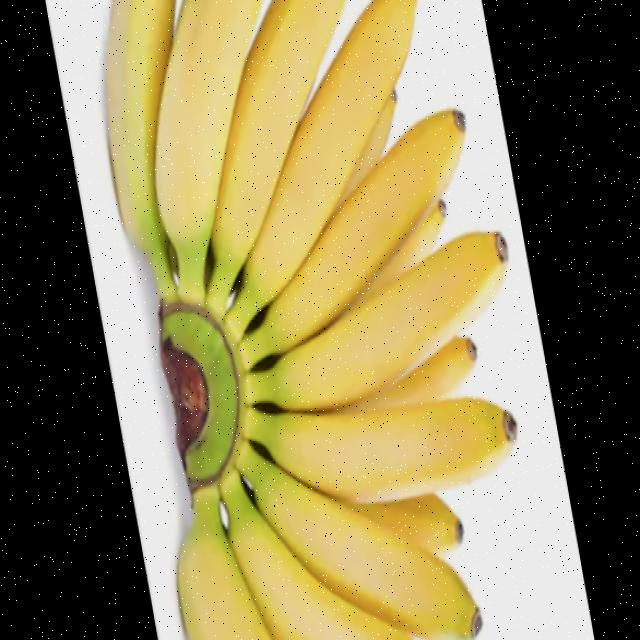god quality banana: (105, 0, 517, 638)
